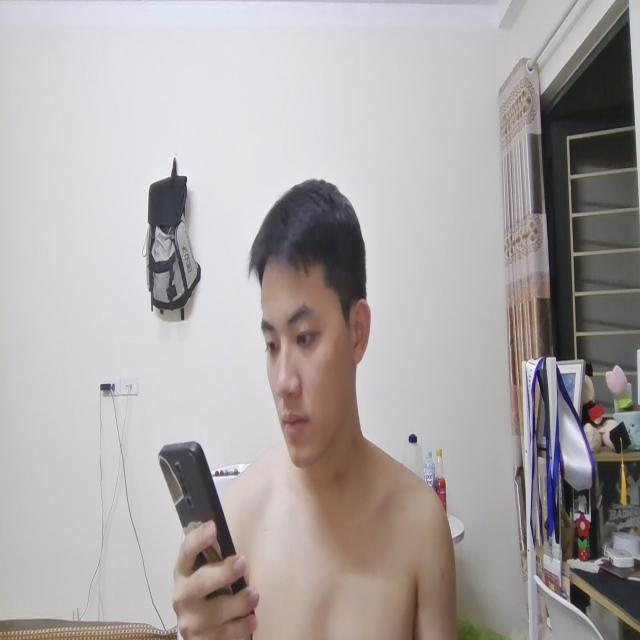phone: (152, 414, 258, 636)
student: (242, 167, 380, 515)
